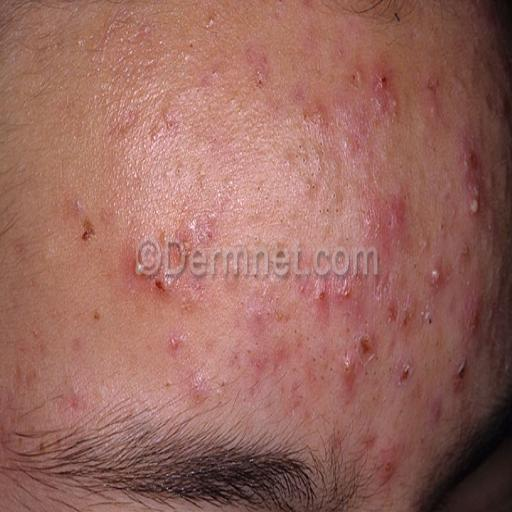Skin_Lesion: (335, 332, 374, 390), (313, 262, 358, 310), (382, 290, 418, 336), (159, 224, 195, 264), (375, 64, 399, 120), (78, 216, 107, 260), (342, 123, 366, 170), (250, 300, 289, 328), (152, 266, 174, 313), (461, 188, 488, 223), (464, 286, 479, 348), (490, 88, 512, 130), (370, 458, 398, 490), (129, 250, 149, 292), (186, 376, 210, 410), (195, 60, 222, 90), (463, 150, 483, 188), (310, 102, 329, 139), (397, 362, 416, 397), (249, 47, 268, 82), (348, 64, 366, 100), (448, 361, 473, 385), (199, 222, 217, 254), (168, 325, 184, 360), (380, 205, 399, 233), (250, 345, 267, 374), (288, 379, 301, 416), (430, 396, 446, 426), (428, 263, 444, 293), (91, 304, 107, 334), (160, 100, 176, 130), (68, 391, 82, 420), (122, 108, 140, 130), (274, 335, 287, 361), (292, 80, 304, 108), (425, 304, 435, 332), (148, 128, 162, 146), (458, 239, 470, 259), (70, 197, 84, 213), (143, 17, 154, 37), (11, 364, 24, 380)
